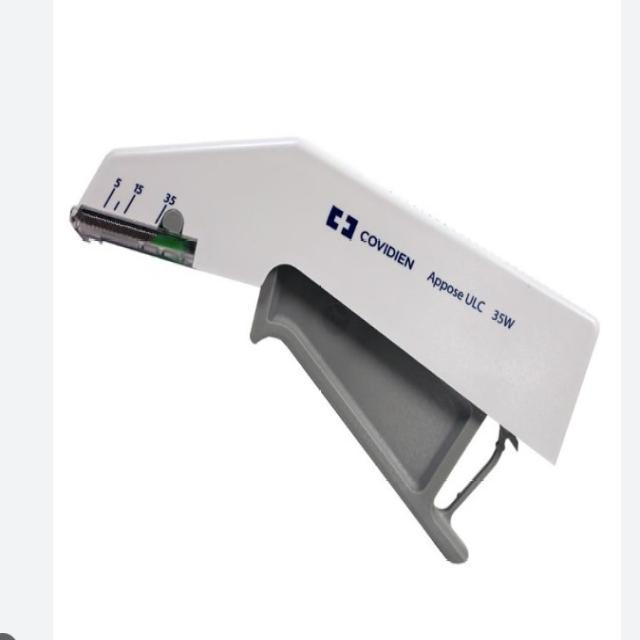Skin Stapler: (63, 137, 598, 572)
